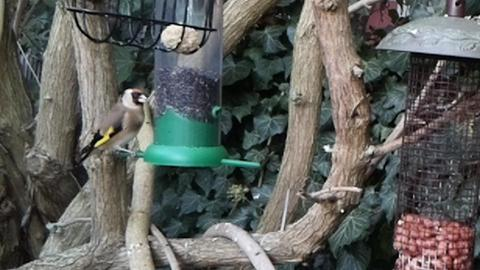goldfinch: (74, 84, 150, 166)
